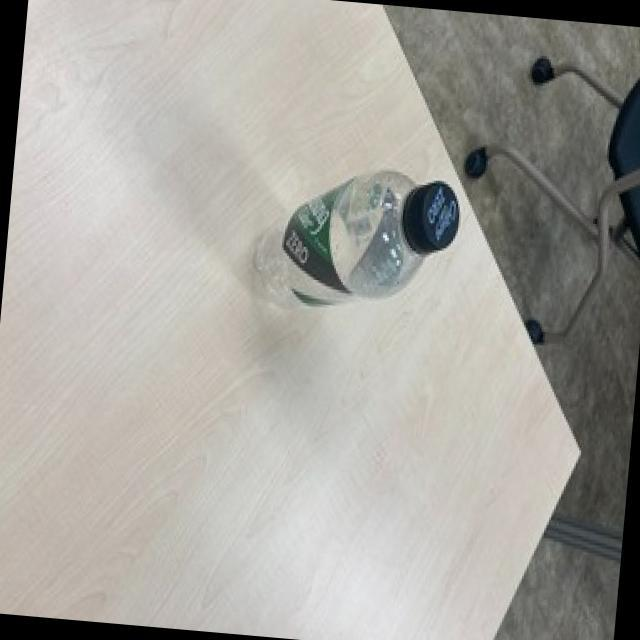good: (239, 155, 466, 327)
